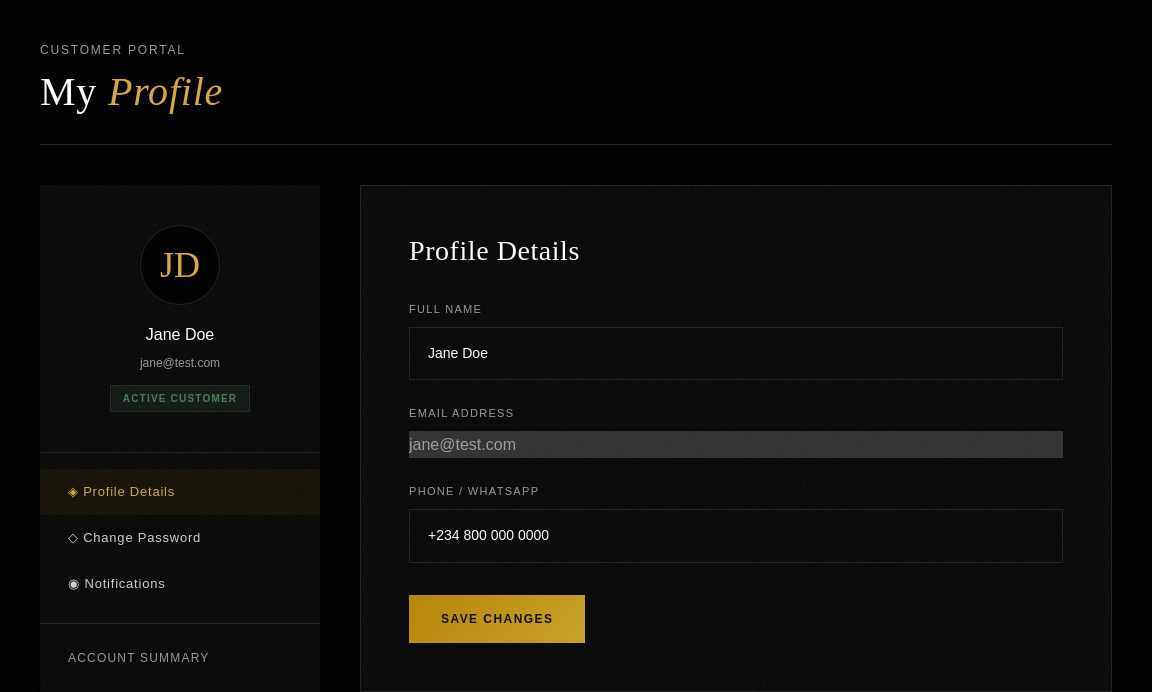
Test: ProfilePageContent › shows short password error
This screenshot has width=1152, height=692.
Click the button "◇ Change Password".
click(180, 538)  # box [40, 515, 320, 561]
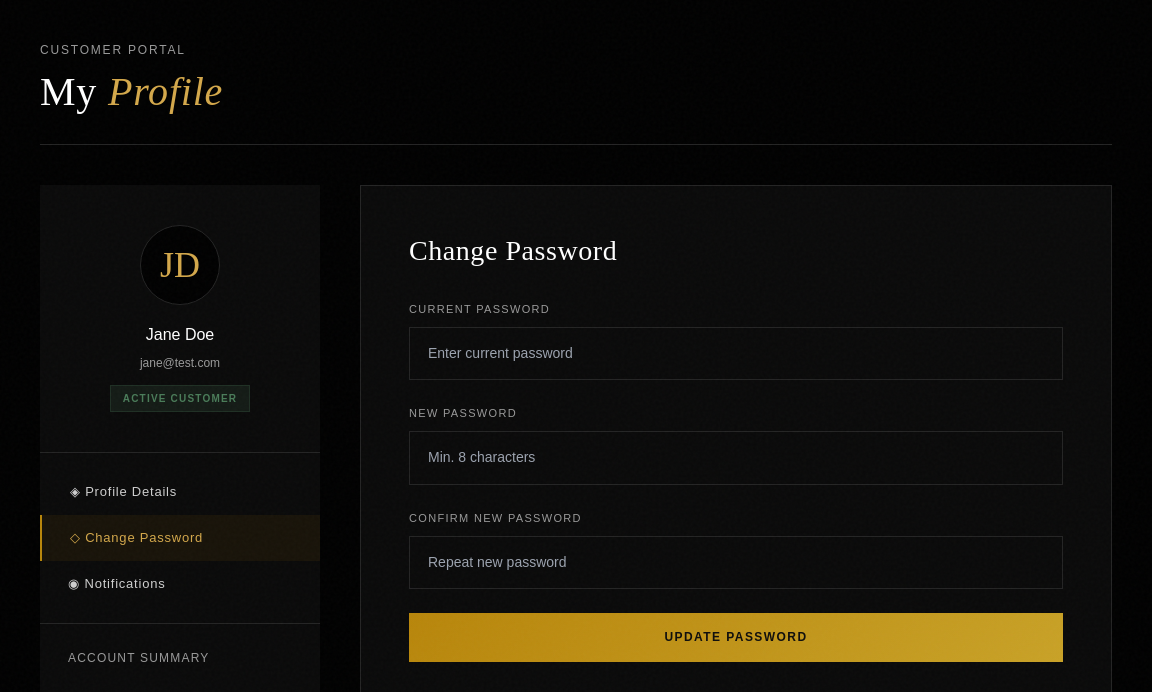
Type "old" into the password field with placeholder "Enter current password".
click(736, 354); type("old")  # box [409, 327, 1063, 380]
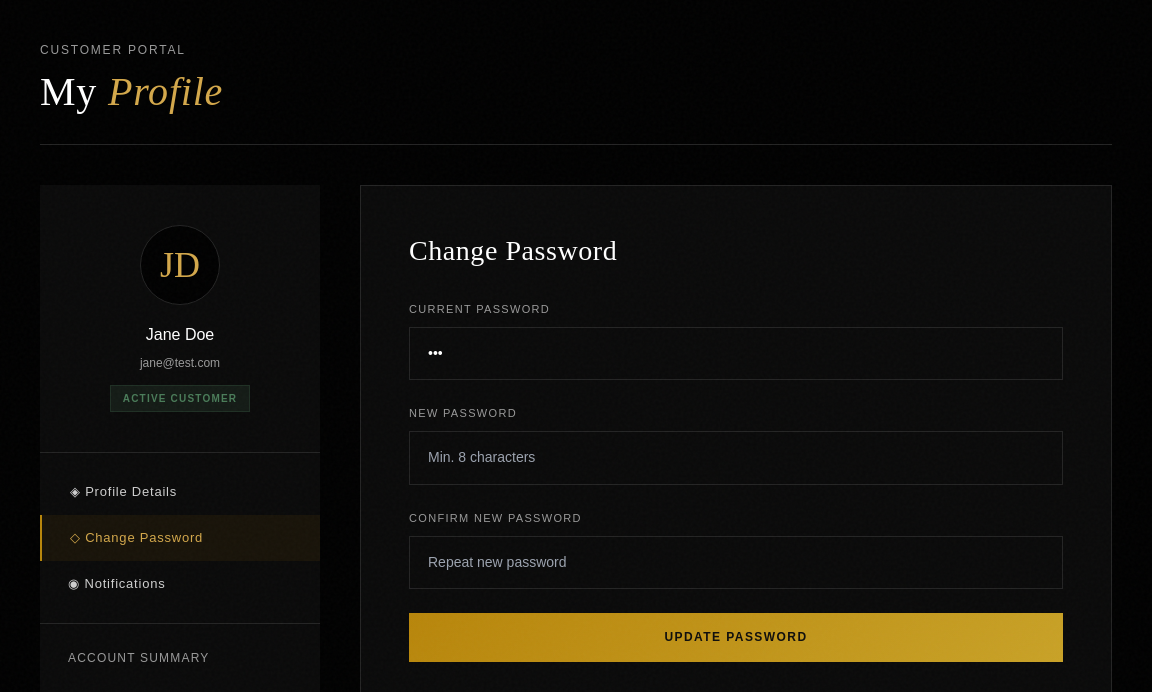
Type "short" into the password field with placeholder "Min. 8 characters".
click(736, 458); type("short")  # box [409, 431, 1063, 485]
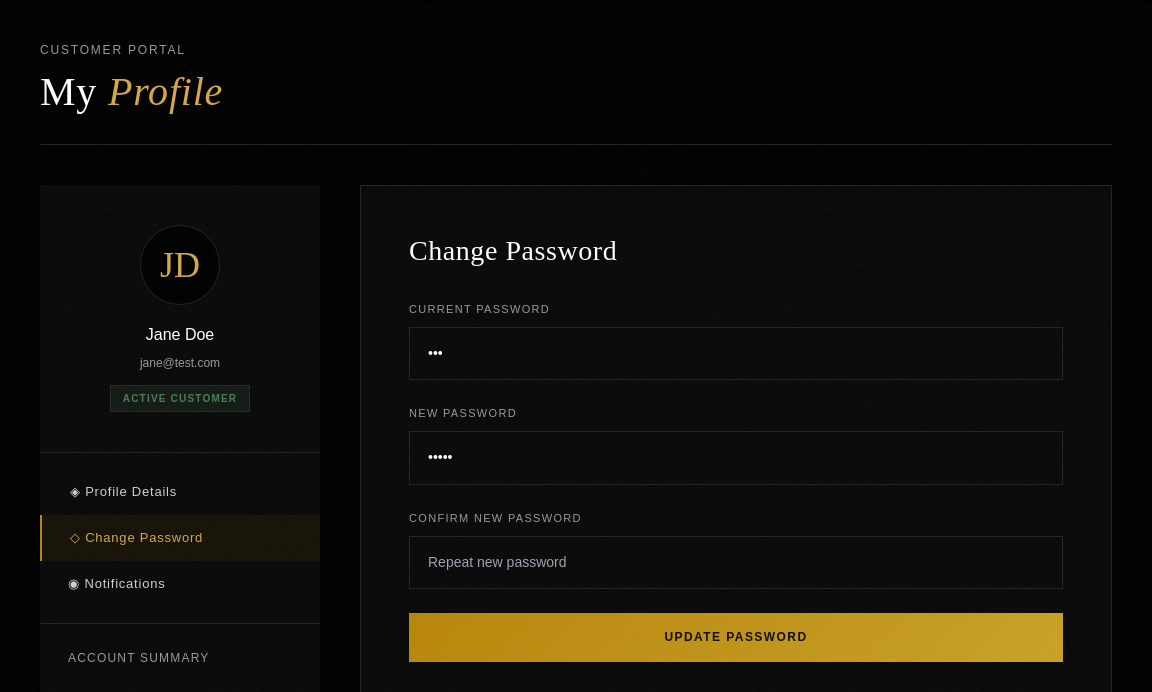
Type "short" into the password field with placeholder "Repeat new password".
click(736, 562); type("short")  # box [409, 536, 1063, 589]
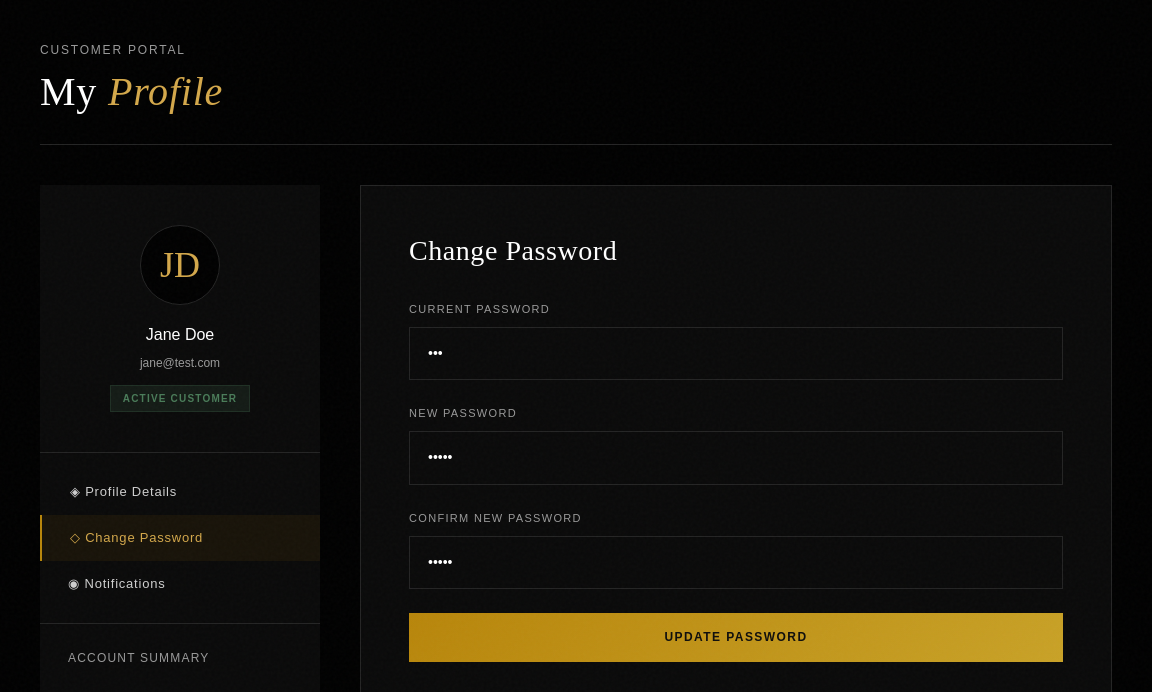
Click the button "Update Password".
click(736, 638)  # box [409, 613, 1063, 662]
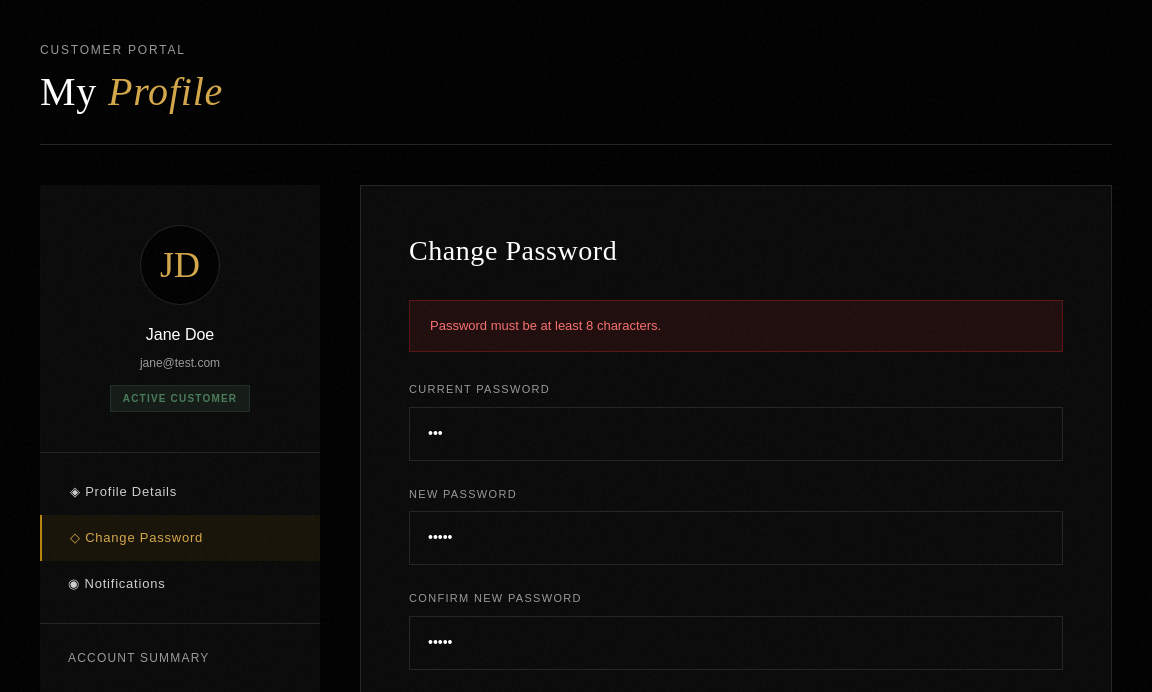
Now the text "Password must be at least 8 characters." is shown, box [409, 300, 1063, 352]
